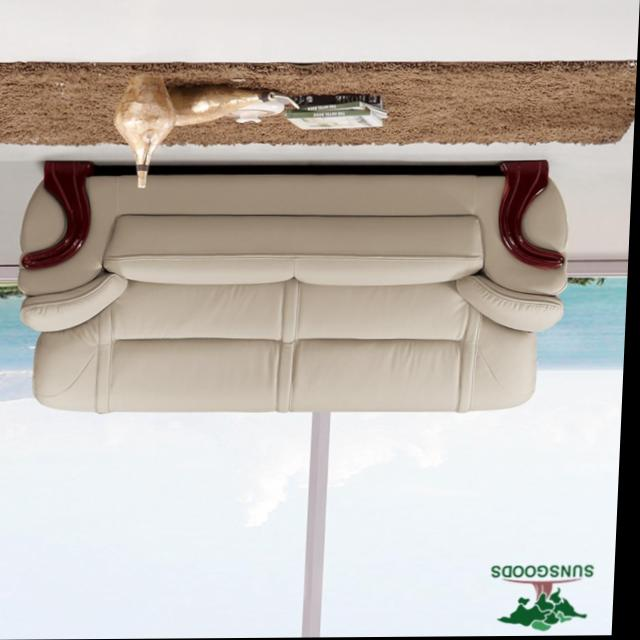Sofa: (16, 160, 576, 416)
